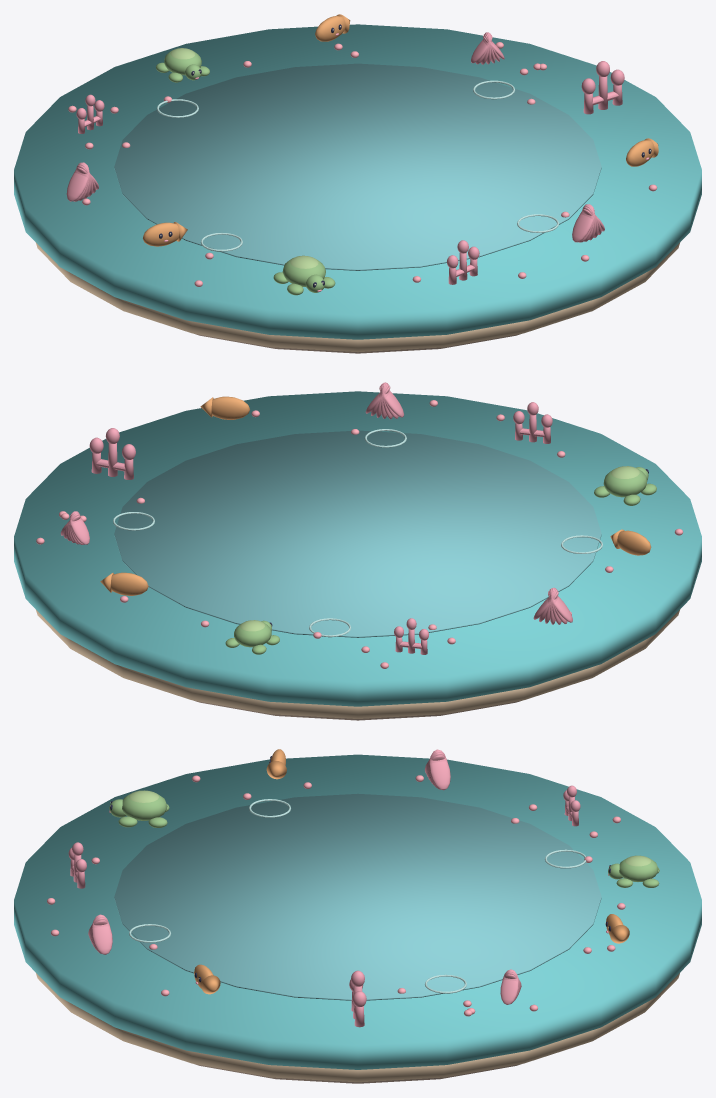
Rendered from world.glb.
3 views of the same model, one above another, from view 1: azimuth 30°, elevation 25°; view 2: azimuth 150°, elevation 25°; view 3: azimuth 270°, elevation 25° (orthographic).
Parts seen in each view (by area): view 1: Cone, Cone.003, Cone.001, turtle.002, coral.001, turtle.001, coral.003, shell.002, shell.003, fish.002, coral.002, fish.001 (+3 smaller); view 2: Cone, Cone.003, Cone.001, turtle.002, coral.001, turtle.001, coral.003, fish.003, fish.001, shell.002, shell.003, coral.002 (+3 smaller); view 3: Cone, Cone.003, Cone.001, turtle.002, turtle.001, shell.002, shell.003, coral.001, Cone.002, coral.003, shell.001, fish.003.
Part boxes in pixels (<box>): Cone: <box>14,24,701,339</box>; Cone.003: <box>114,63,601,270</box>; Cone.001: <box>35,242,680,352</box>; turtle.002: <box>273,255,335,295</box>; coral.001: <box>581,61,624,114</box>; turtle.001: <box>156,48,209,82</box>; coral.003: <box>447,240,479,284</box>; shell.002: <box>66,162,98,201</box>; shell.003: <box>572,204,604,242</box>; fish.002: <box>143,222,187,246</box>; coral.002: <box>76,94,104,133</box>; fish.001: <box>315,14,350,41</box>; Cone: <box>14,391,701,706</box>; Cone.003: <box>114,430,601,637</box>; Cone.001: <box>35,609,680,718</box>; turtle.002: <box>594,466,656,505</box>; coral.001: <box>89,428,135,479</box>; turtle.001: <box>225,620,279,654</box>; coral.003: <box>513,402,552,443</box>; fish.003: <box>200,396,249,419</box>; fish.001: <box>100,572,148,595</box>; shell.002: <box>533,587,572,624</box>; shell.003: <box>365,382,404,419</box>; coral.002: <box>394,618,428,654</box>; Cone: <box>14,754,701,1069</box>; Cone.003: <box>114,793,601,1000</box>; Cone.001: <box>36,973,679,1082</box>; turtle.002: <box>109,790,169,827</box>; turtle.001: <box>608,855,659,887</box>; shell.002: <box>425,749,450,790</box>; shell.003: <box>88,914,112,954</box>; coral.001: <box>349,970,366,1027</box>; Cone.002: <box>194,1064,521,1083</box>; coral.003: <box>68,842,86,888</box>; shell.001: <box>500,969,521,1004</box>; fish.003: <box>194,964,220,994</box>.
Bounding box in the file's own units: 9.6 × 1.51 × 9.6.
